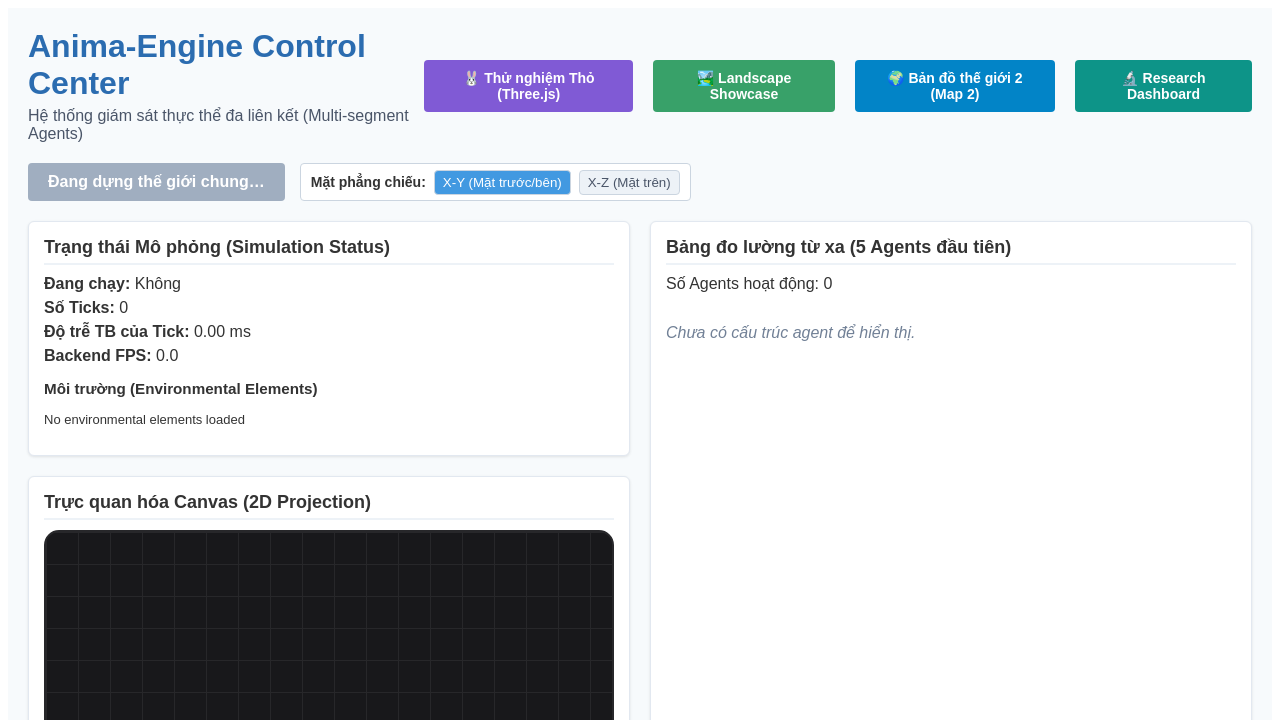
Test: Landscape Showcase Test Suite (93 Tests) › Tier 1: Feature Coverage (40 tests) › F8: App Integration › F8.2: App.tsx mount toggle opens the shared world, not the standalone scene
This screenshot has width=1280, height=720.
Click the button "🏞️ Landscape Showcase".
click(744, 86)  # box [653,60,835,112]
(page scrolled)
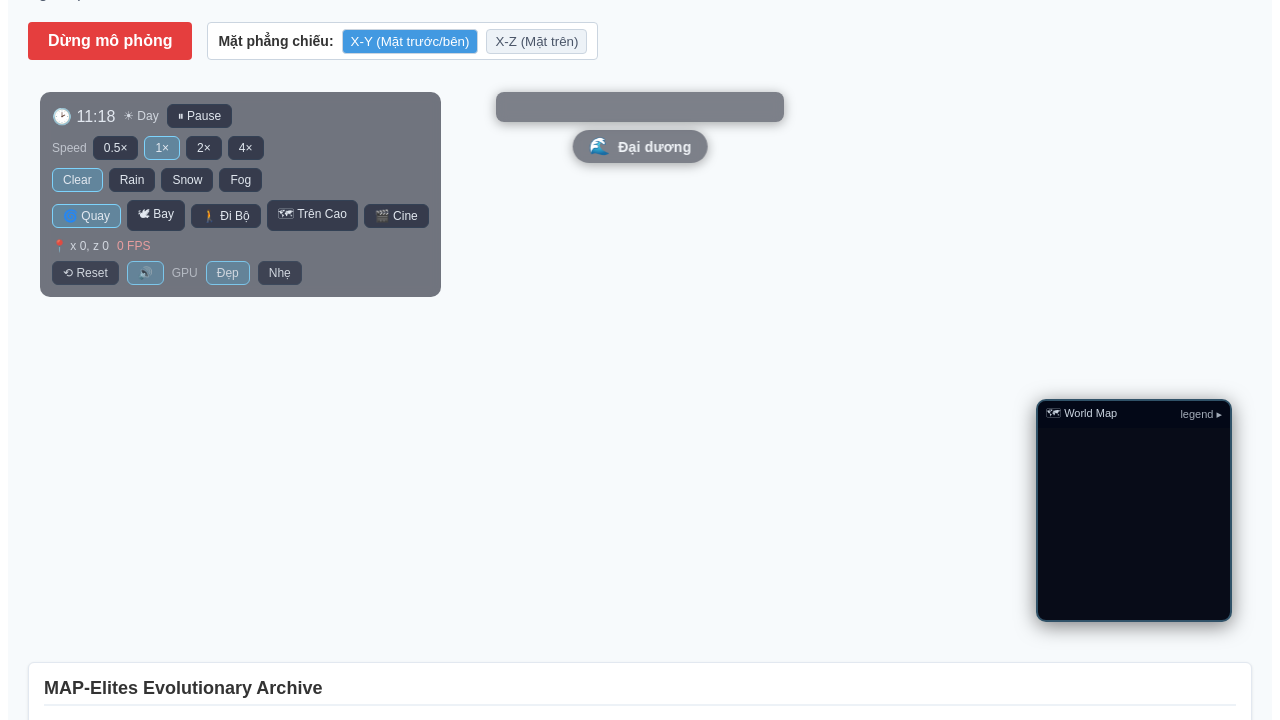
expect the element with test id "world-showcase" is shown: met
